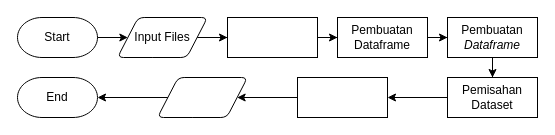
The diagram is 555 pixels wide and 135 high, and some of its shapes have lost their labels. Each missing label, with the centre of its shape:
Dataframe: point (202, 97)
Fitur Ekstraksi: point (272, 37)
SMOTE: point (342, 97)
